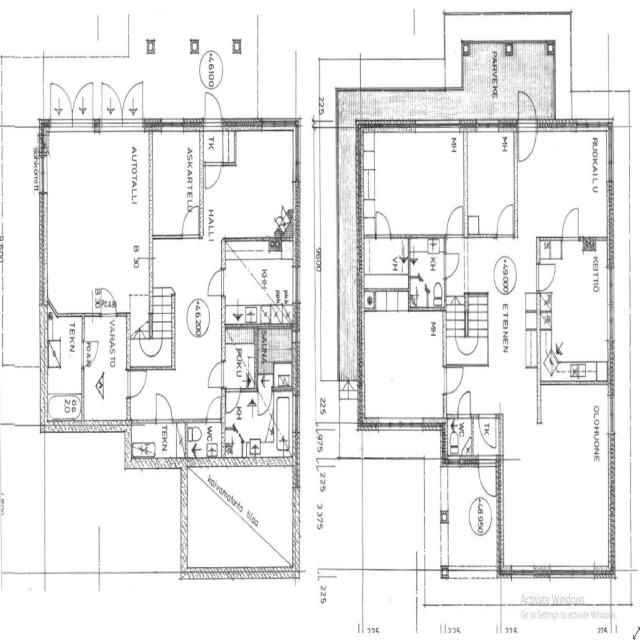door: (200, 93, 226, 195), (46, 78, 98, 126), (98, 78, 146, 129), (514, 87, 539, 166), (558, 199, 585, 242), (202, 150, 225, 195), (477, 453, 499, 498), (179, 201, 203, 242), (494, 198, 517, 240), (476, 409, 499, 451), (440, 359, 466, 396), (444, 199, 466, 240), (125, 364, 149, 401), (205, 263, 227, 300), (96, 282, 117, 319), (535, 259, 558, 292), (205, 358, 228, 391), (153, 389, 174, 425), (374, 207, 393, 240), (442, 248, 462, 279), (204, 391, 223, 423), (452, 329, 472, 359), (257, 379, 274, 414), (224, 384, 242, 417), (456, 387, 473, 421)
window: (370, 412, 432, 443), (549, 561, 600, 587), (412, 112, 463, 137), (570, 110, 614, 137), (33, 150, 52, 212), (508, 560, 543, 588), (253, 110, 289, 137), (604, 263, 616, 343), (602, 385, 617, 448), (156, 112, 192, 136), (472, 113, 503, 136)
zone: (498, 380, 616, 578), (40, 125, 156, 317), (181, 458, 297, 575), (362, 125, 467, 236), (357, 302, 448, 428), (518, 125, 614, 238), (537, 240, 612, 383), (211, 129, 299, 246), (102, 468, 183, 574), (438, 461, 499, 580), (298, 459, 361, 570), (220, 237, 299, 325), (464, 123, 518, 238), (152, 123, 202, 241), (220, 388, 289, 462), (83, 314, 126, 422), (45, 313, 84, 418), (360, 234, 409, 299), (407, 234, 446, 309), (256, 322, 298, 390), (130, 418, 186, 468), (222, 325, 256, 390), (187, 415, 225, 463), (444, 407, 474, 467)
